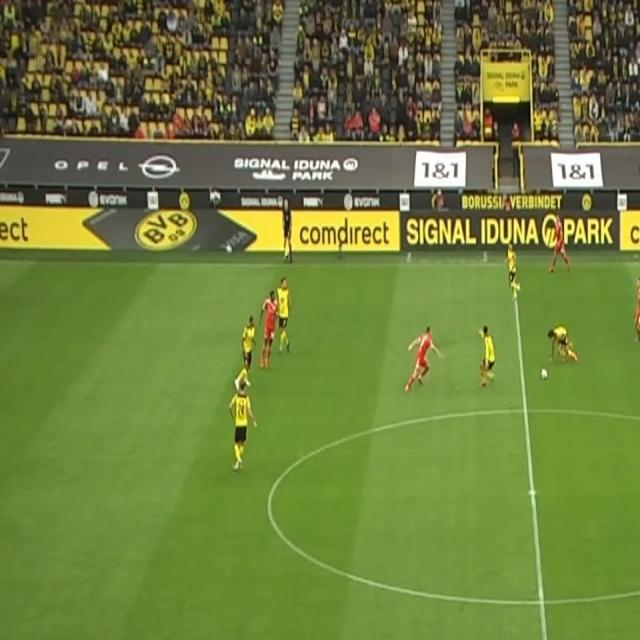ball: (540, 366, 548, 382)
